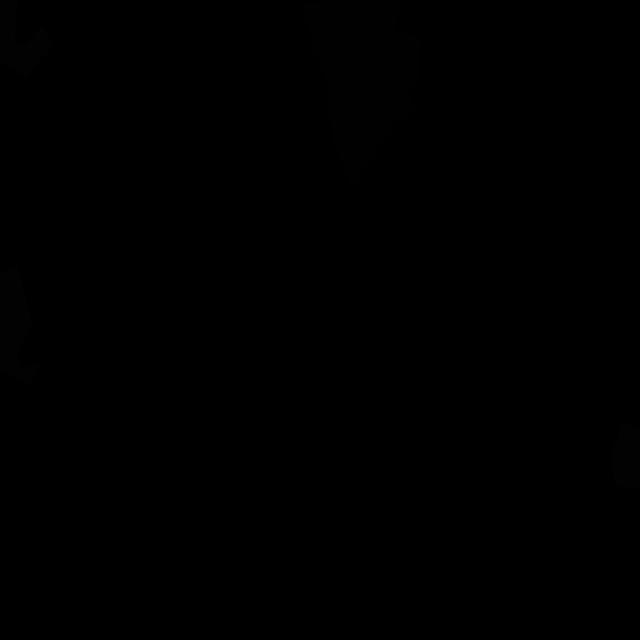cardboard: (0, 265, 44, 385), (610, 424, 640, 489)
rigid_plastic: (301, 0, 421, 189)
